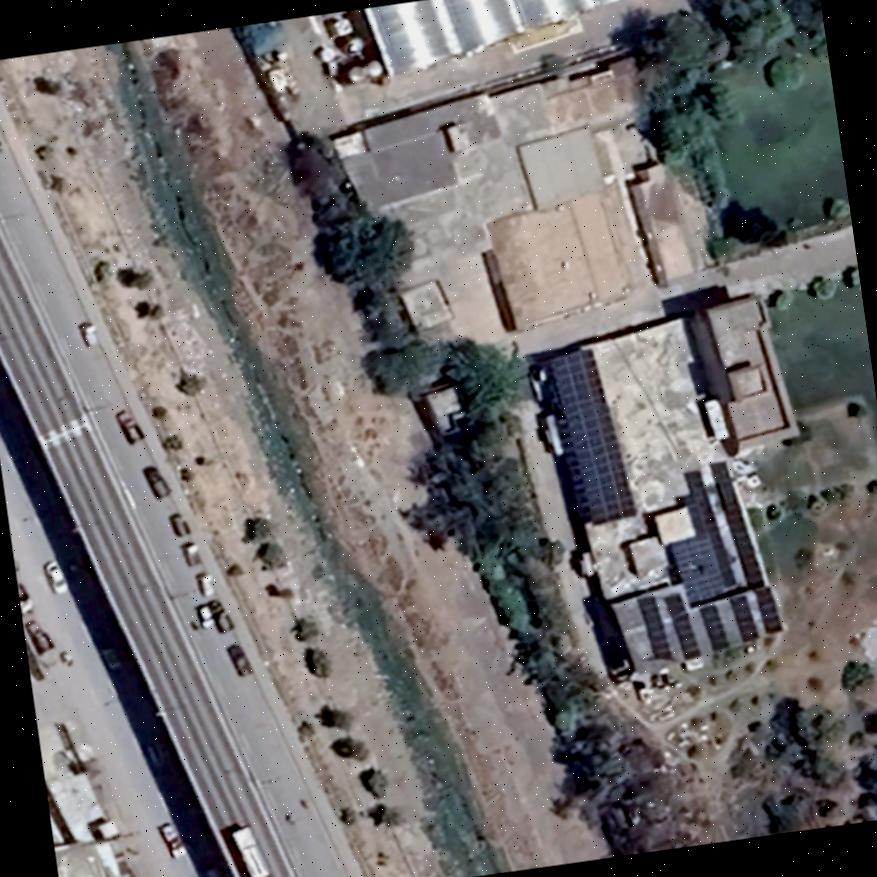Solarpanel: (645, 449, 787, 664), (541, 341, 641, 529), (633, 583, 677, 668), (657, 588, 702, 667)
